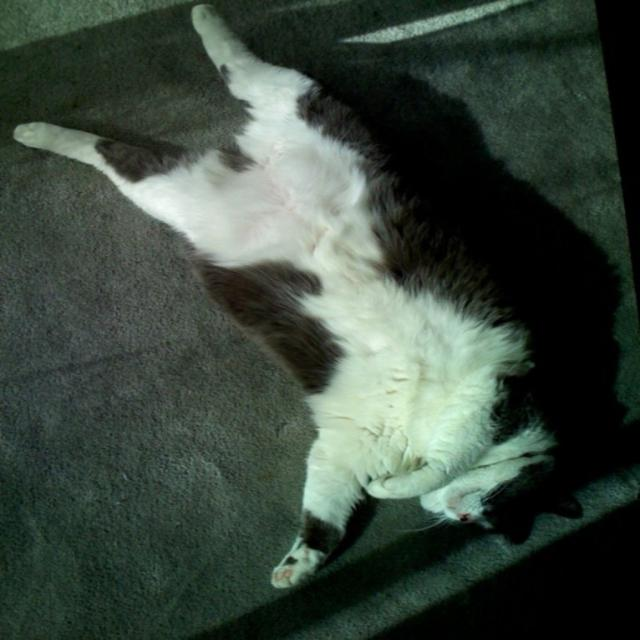Cat: (11, 3, 571, 588)
